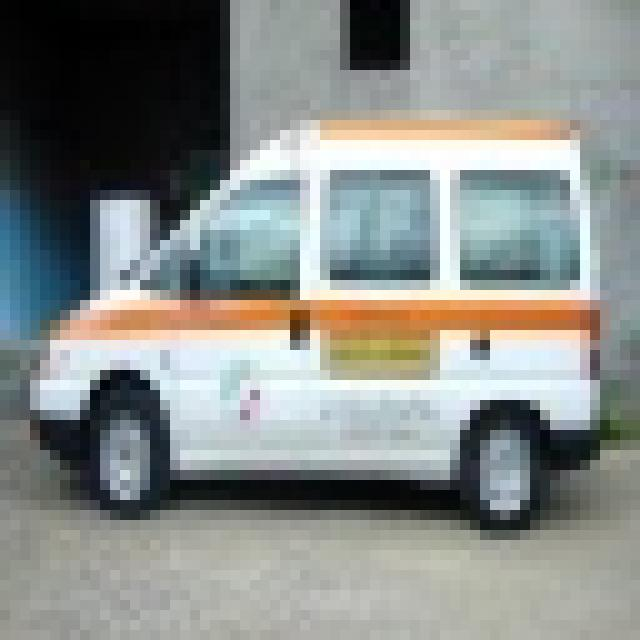Ambulance: (20, 110, 600, 520)
